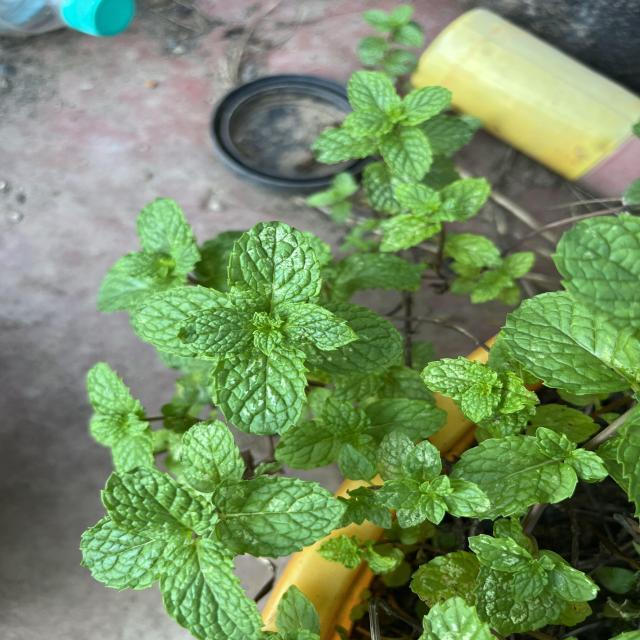Mentha spicata: (498, 288, 640, 395), (209, 473, 349, 560), (155, 539, 266, 640), (211, 337, 309, 438), (98, 462, 216, 540), (225, 218, 326, 304), (176, 304, 252, 358)
